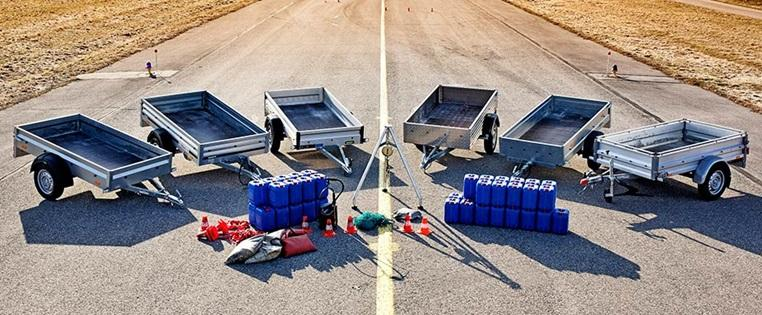trailer: (13, 112, 174, 194), (139, 89, 269, 167), (593, 117, 749, 181), (499, 93, 612, 169), (402, 83, 501, 152), (263, 85, 367, 150)
